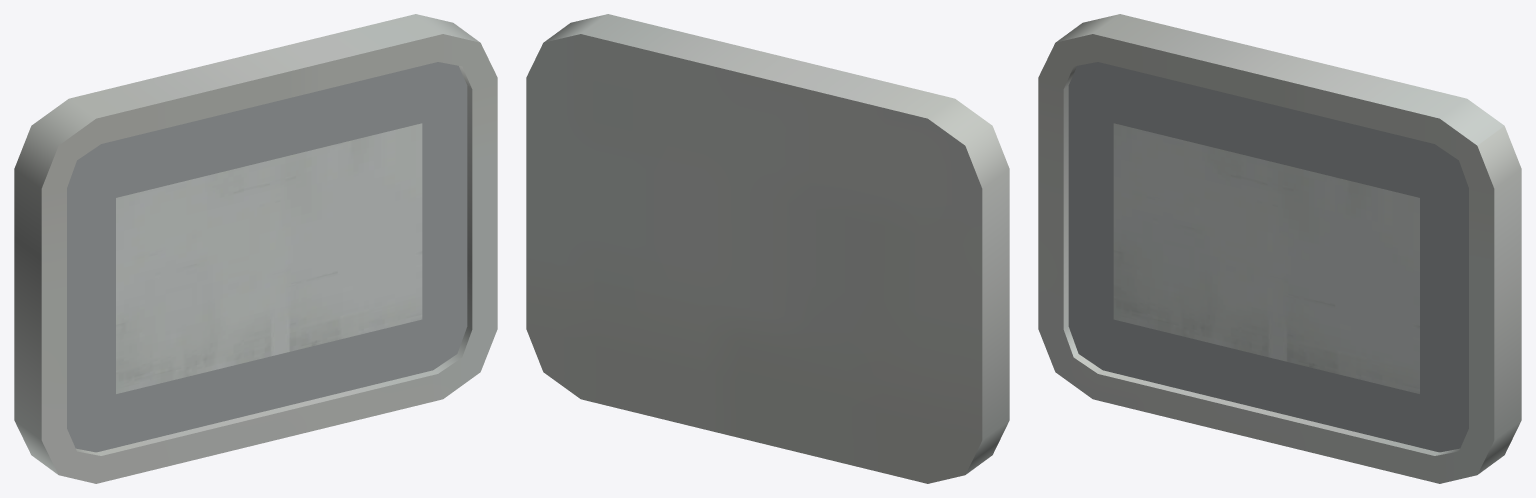
Rendered from floor-panel05-art.glb.
3 renders of one model, left to right at view 1: azimuth 30°, elevation 25°; view 2: azimuth 150°, elevation 25°; view 3: azimuth 330°, elevation 25°, orthographic.
Visible parts, largest first — view 1: FloorPanel05_Art; view 2: FloorPanel05_Art; view 3: FloorPanel05_Art.
Boxes of the visible parts, <box> form: FloorPanel05_Art: <box>14,14,497,483</box>; FloorPanel05_Art: <box>526,14,1009,483</box>; FloorPanel05_Art: <box>1038,14,1521,483</box>.
Bounding box in the file's own units: 1.19 × 0.9104 × 0.1233.
Materials: 2 (2 with a texture image).
